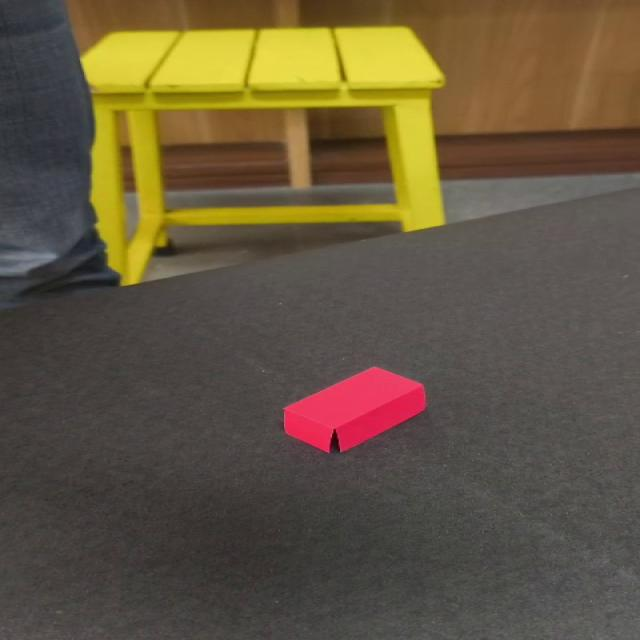red block: (281, 366, 427, 454)
